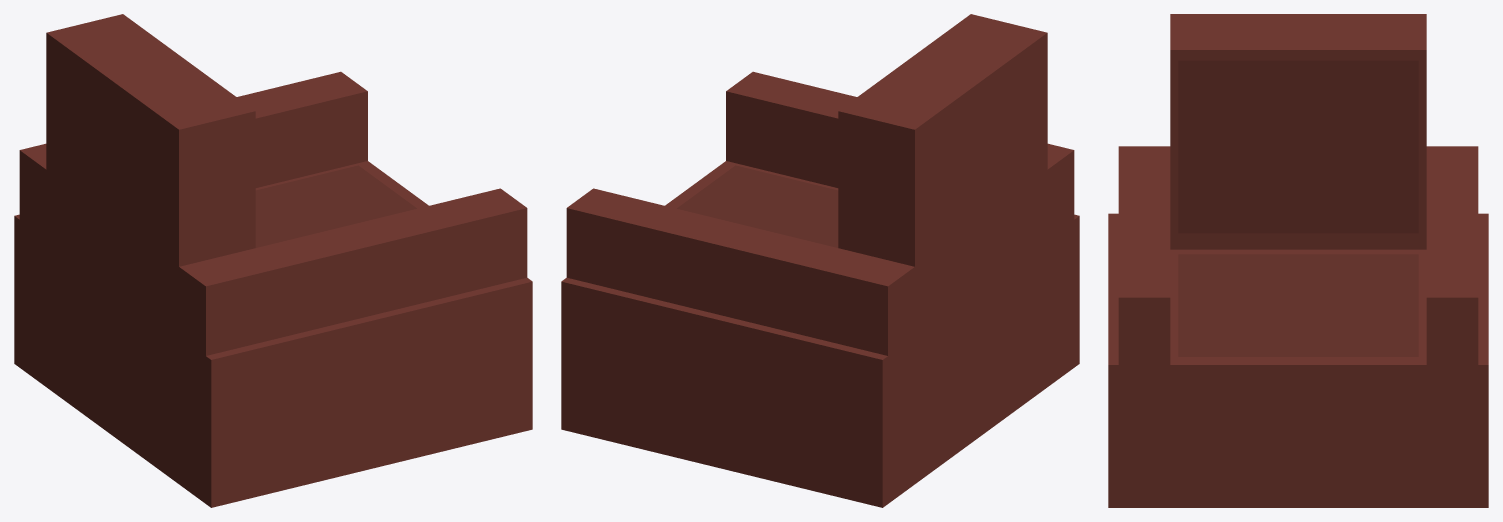
File: armChair.fbx
3 views of the same model, side by side, from view 1: azimuth 30°, elevation 25°; view 2: azimuth 150°, elevation 25°; view 3: azimuth 270°, elevation 25° (orthographic). The views are drawn at different scales.
Visible parts, largest first — view 1: armChair; view 2: armChair; view 3: armChair.
Part boxes in pixels (<box>): armChair: <box>14,14,532,507</box>; armChair: <box>561,14,1079,507</box>; armChair: <box>1108,14,1488,507</box>.
Bounding box in the file's own units: 227 × 240 × 241.
